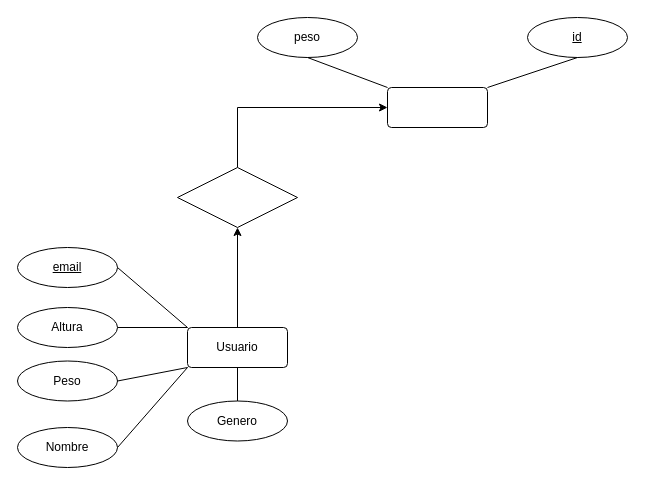
The diagram is 645 pixels wide and 485 high, and some of its shapes have lost their labels. Here are the shapes that lost their labels. From the top down, the box of each, then its label:
(386, 86, 488, 128): botella
(176, 166, 298, 228): bebe
